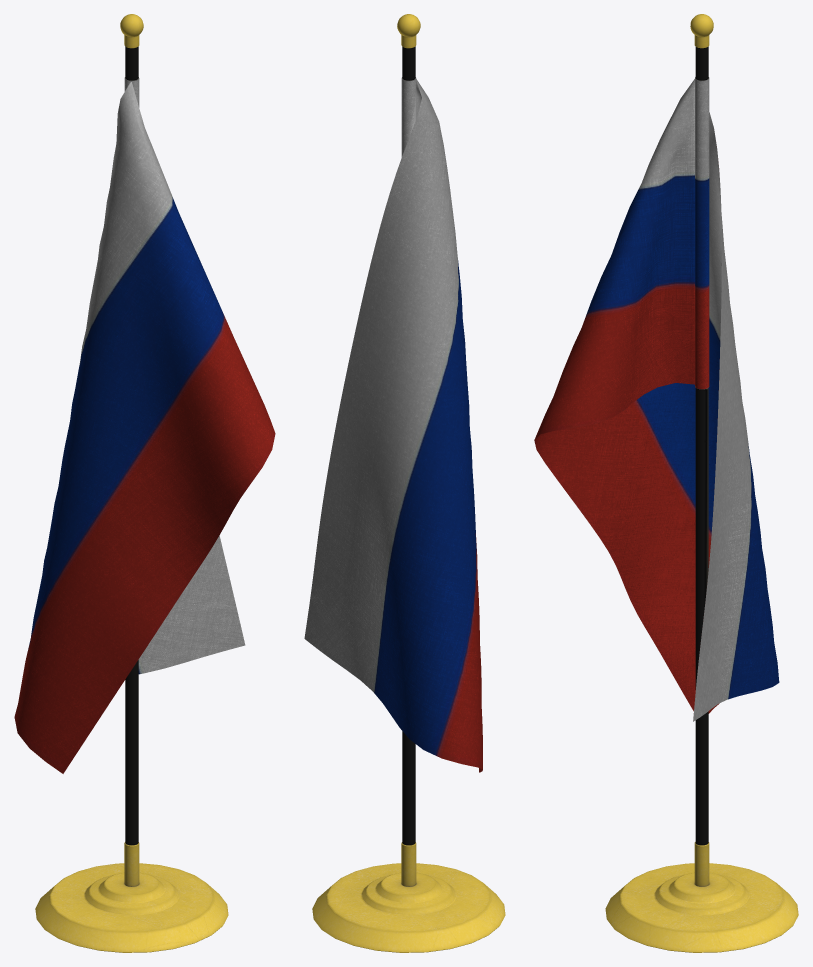
The model's file is Flag.fbx.
3 views of the same model, side by side, from view 1: azimuth 30°, elevation 25°; view 2: azimuth 150°, elevation 25°; view 3: azimuth 270°, elevation 25° (orthographic).
Parts seen in each view (by area): view 1: FlagRF; view 2: FlagRF; view 3: FlagRF.
Part boxes in pixels (x1=…): FlagRF: x1=14, y1=14, x2=275, y2=952; FlagRF: x1=304, y1=14, x2=505, y2=952; FlagRF: x1=534, y1=14, x2=798, y2=952.
Size of the model in its own units: 59.72 by 256 by 68.34.
